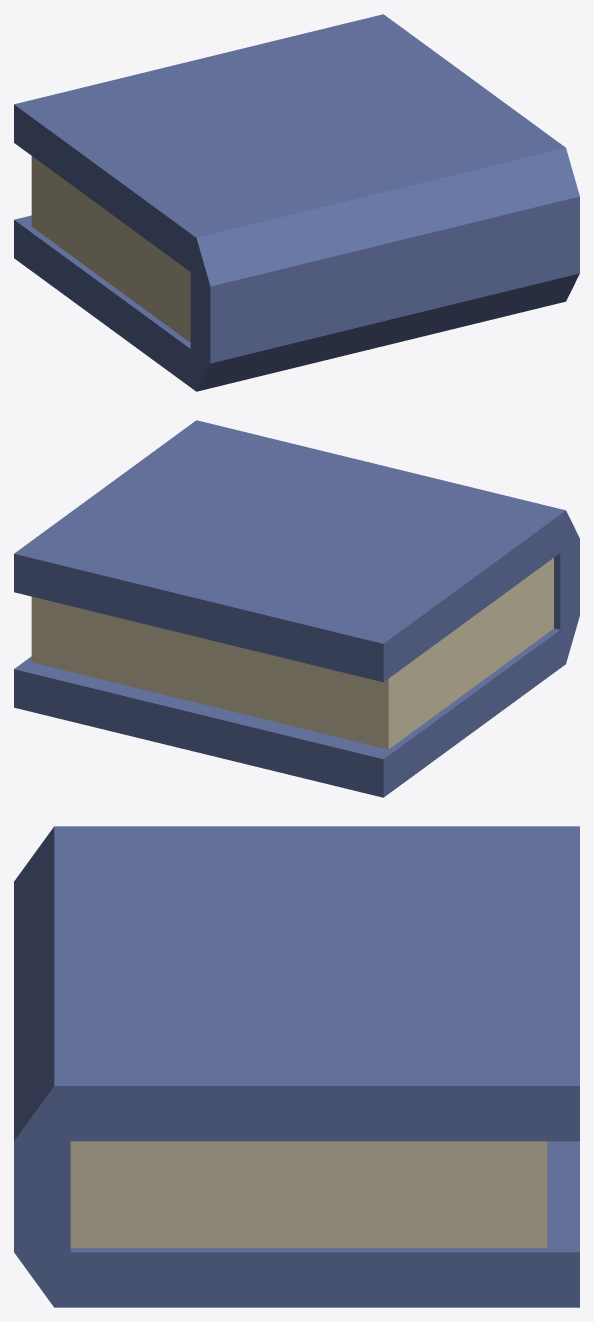
The model's file is msh_book_04.fbx.
3 views of the same model, one above another, from view 1: azimuth 30°, elevation 25°; view 2: azimuth 150°, elevation 25°; view 3: azimuth 270°, elevation 25° (orthographic). The views are drawn at different scales.
Visible parts, largest first — view 1: msh_book_04; view 2: msh_book_04; view 3: msh_book_04.
Boxes of the visible parts, x1,y1,x2,y2 form: msh_book_04: [14, 14, 579, 391]; msh_book_04: [14, 420, 579, 797]; msh_book_04: [14, 826, 579, 1307].
Bounding box in the file's own units: 33.79 × 13.44 × 31.12.
